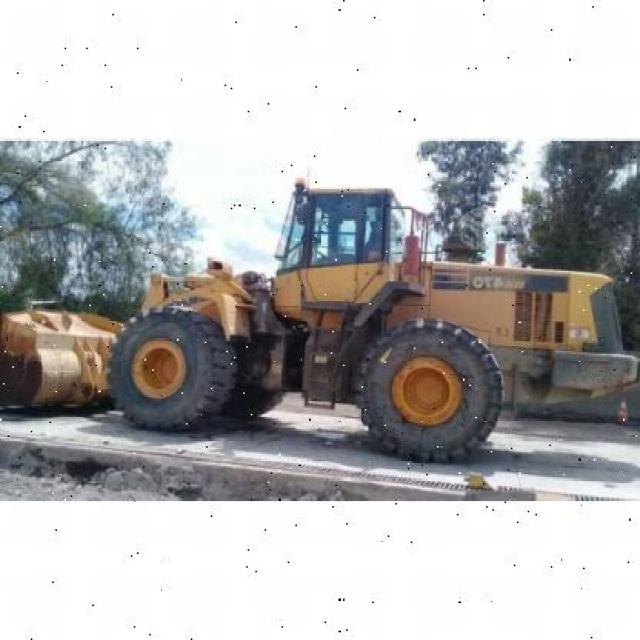buldozerpayloadergrader: (1, 176, 628, 464)
